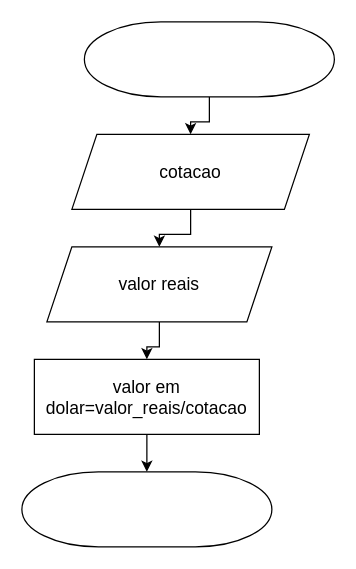
Image size: 356x569. Some labels were removed from this diagram. The shapes that lost their labels are listed below. From the top down, each one's centre as x and y in pixels, then its label:
(x=208, y=59): início
(x=146, y=509): fim
